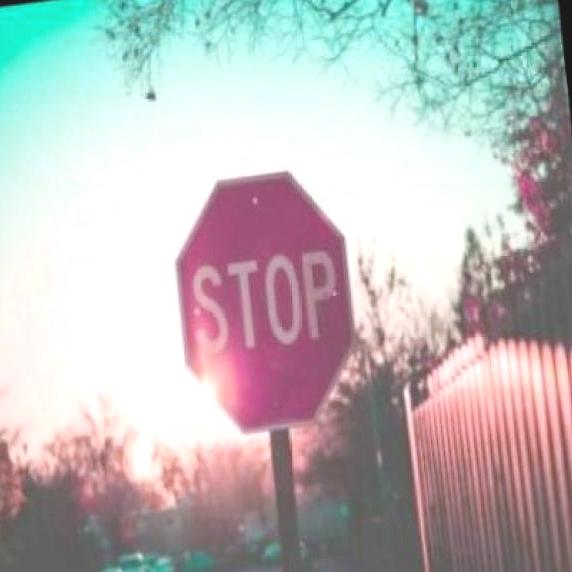stop_sign: (161, 159, 368, 442)
